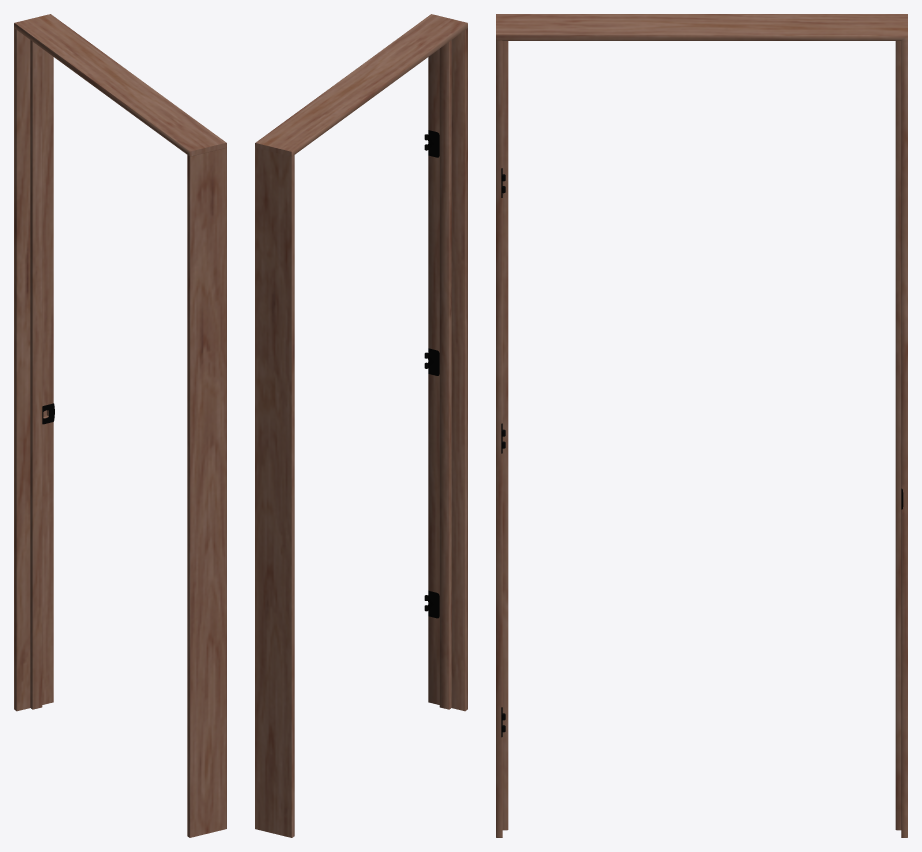
The model's file is visual_Door_right_frame_zero_panel_wood_dark.dae.
The picture shows the model from 3 angles, left to right: view 1: azimuth 30°, elevation 25°; view 2: azimuth 150°, elevation 25°; view 3: azimuth 270°, elevation 25°; orthographic projection. The views are drawn at different scales.
Visible parts, largest first — view 1: visual_Door_right_frame_zero_panel_wood_dark; view 2: visual_Door_right_frame_zero_panel_wood_dark; view 3: visual_Door_right_frame_zero_panel_wood_dark.
Boxes of the visible parts, left/top/right/bottom form: visual_Door_right_frame_zero_panel_wood_dark: left=14, top=14, right=226, bottom=837; visual_Door_right_frame_zero_panel_wood_dark: left=255, top=14, right=467, bottom=837; visual_Door_right_frame_zero_panel_wood_dark: left=496, top=14, right=907, bottom=837.
Size of the model in its own units: 0.1248 by 0.9521 by 2.05.
1 material, 1 textured.
